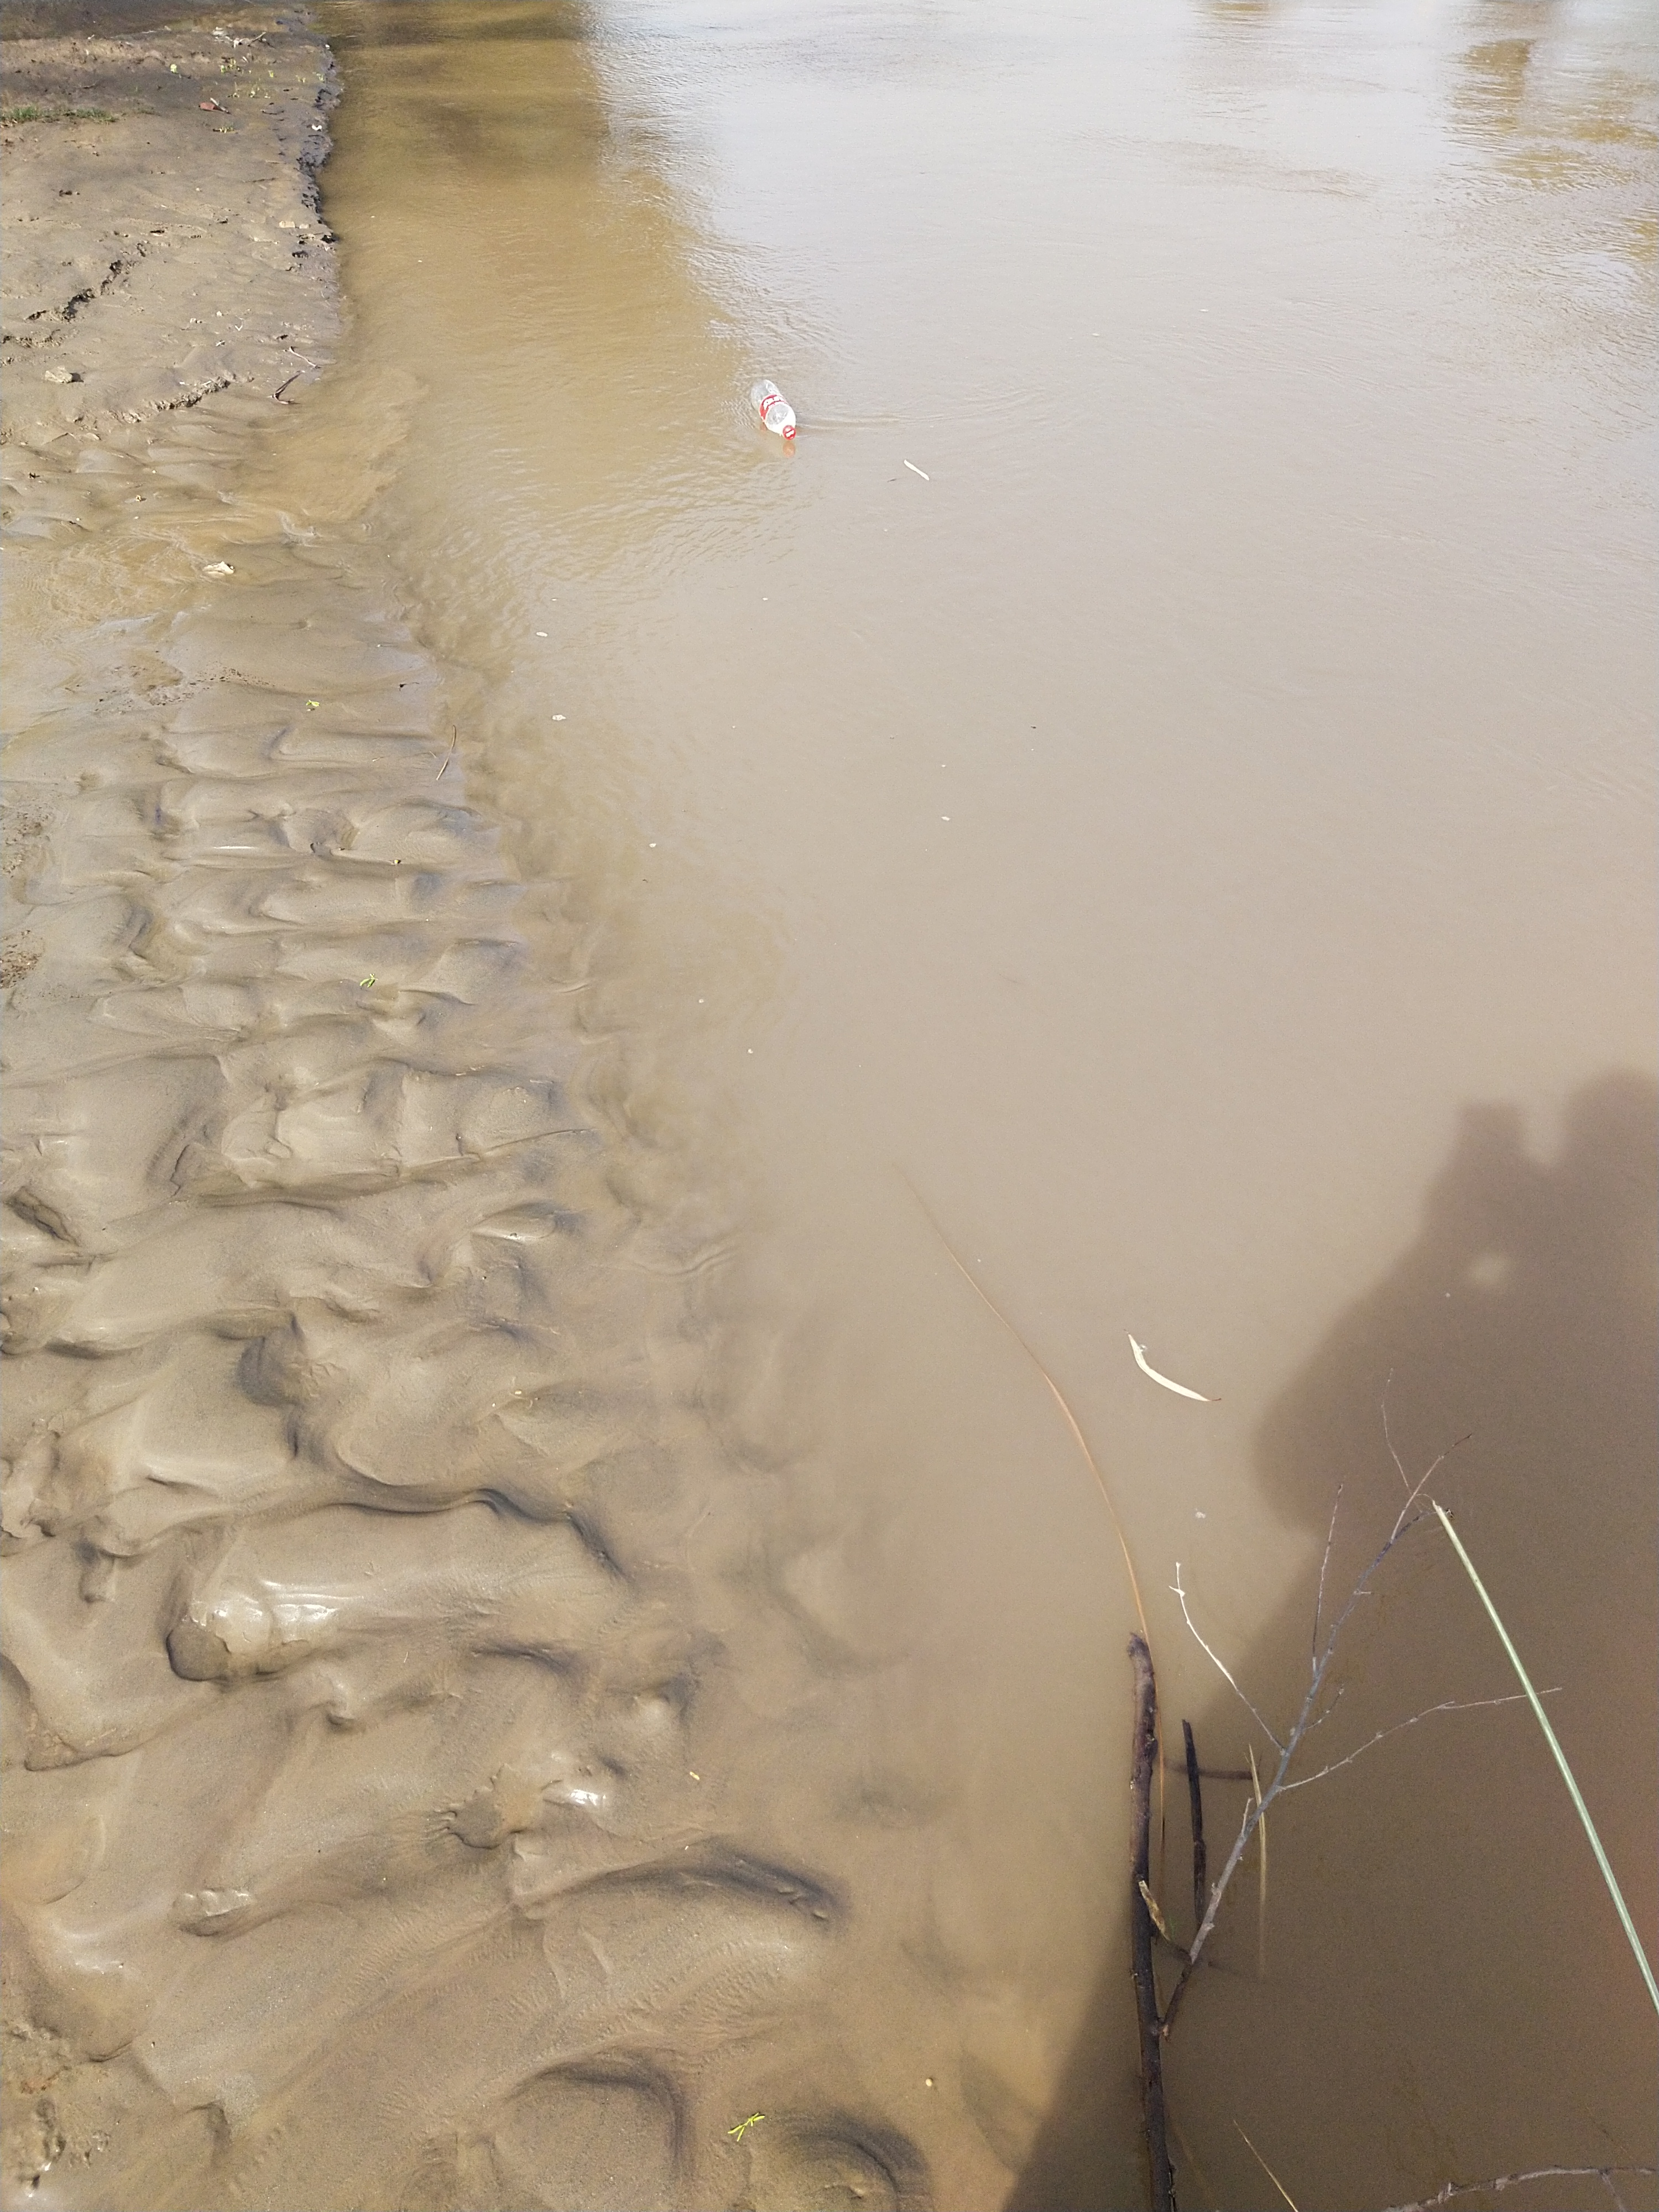Plastic Bottle: (749, 380, 796, 439)
